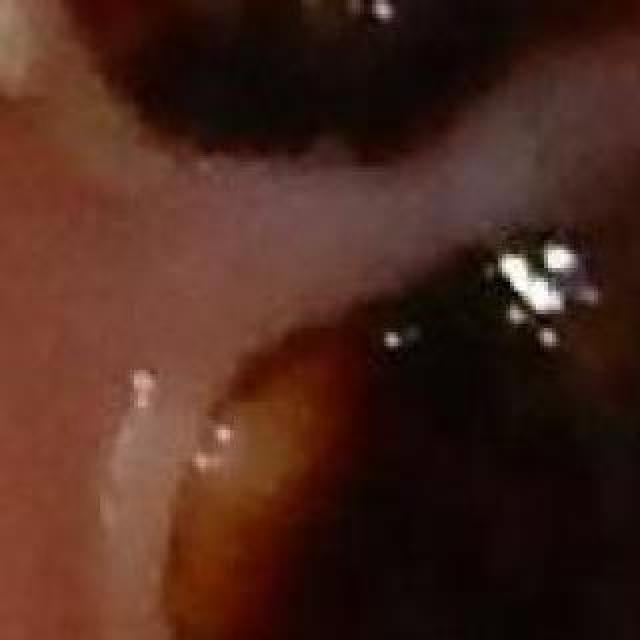cavities: (132, 40, 640, 640)
